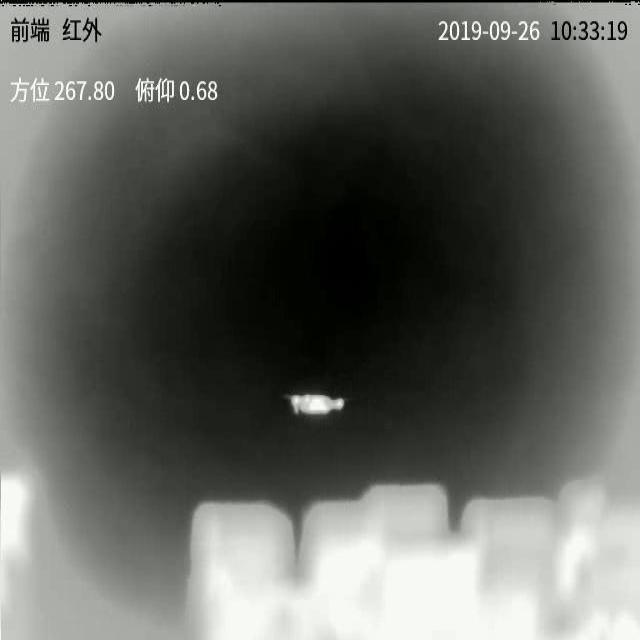drone: (289, 395, 345, 415)
